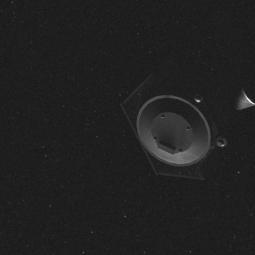cheops: (116, 49, 255, 197)
